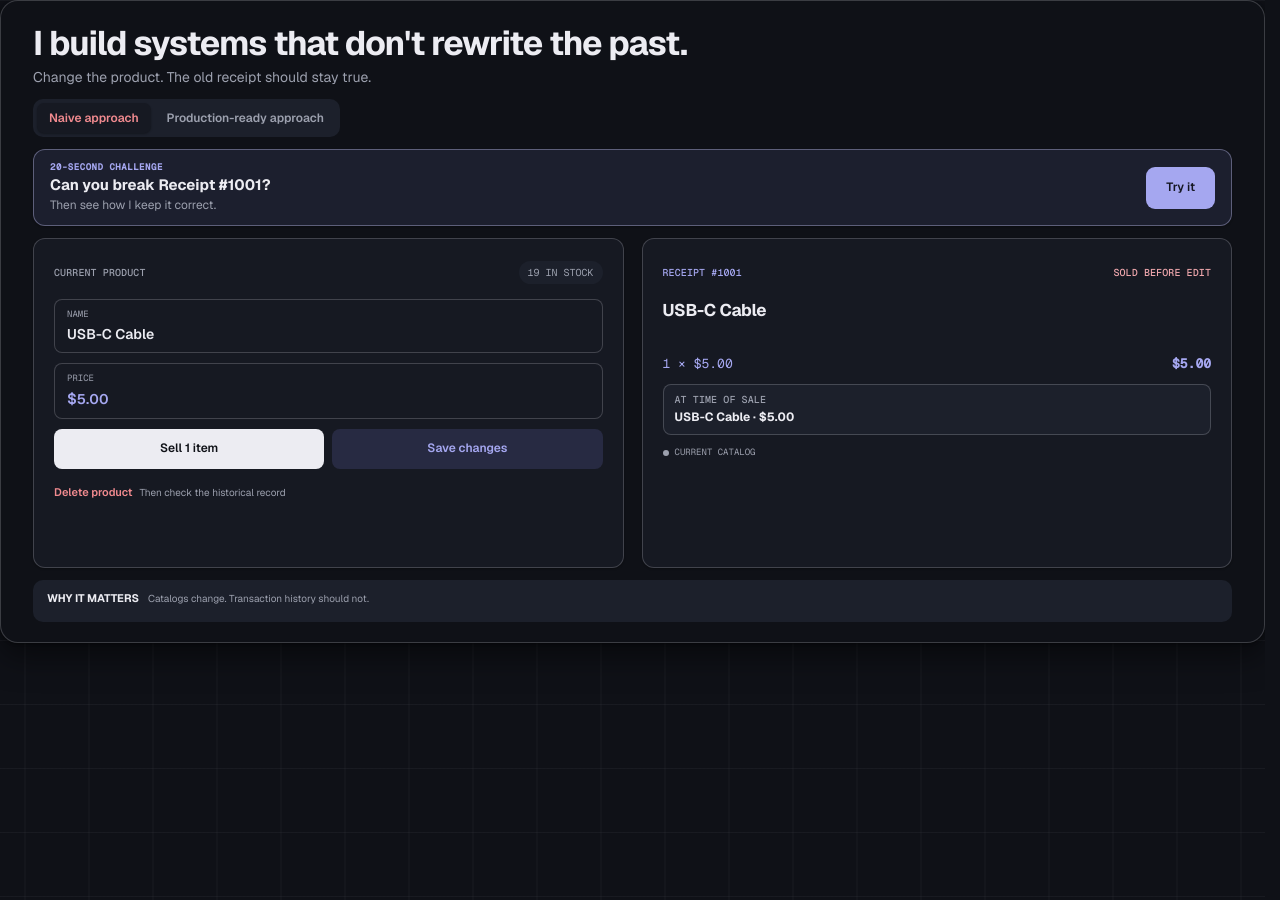
InventoryDemo › keeps the coachmark readable through all four steps in dark mode
Click the button "Try it" at (1181, 188), box [1146, 166, 1215, 208]
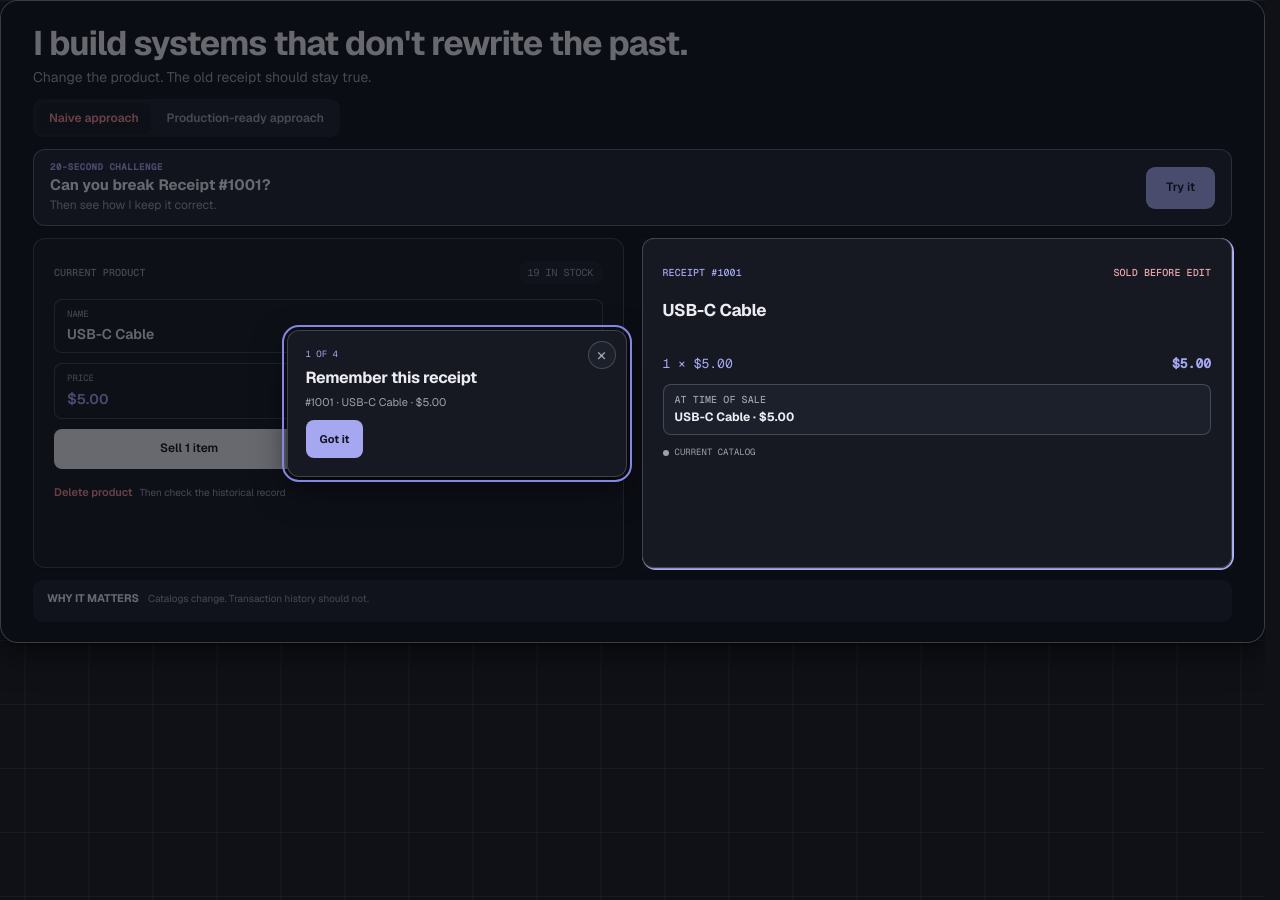
Click the button "Got it" at (334, 439), box [306, 420, 363, 458]
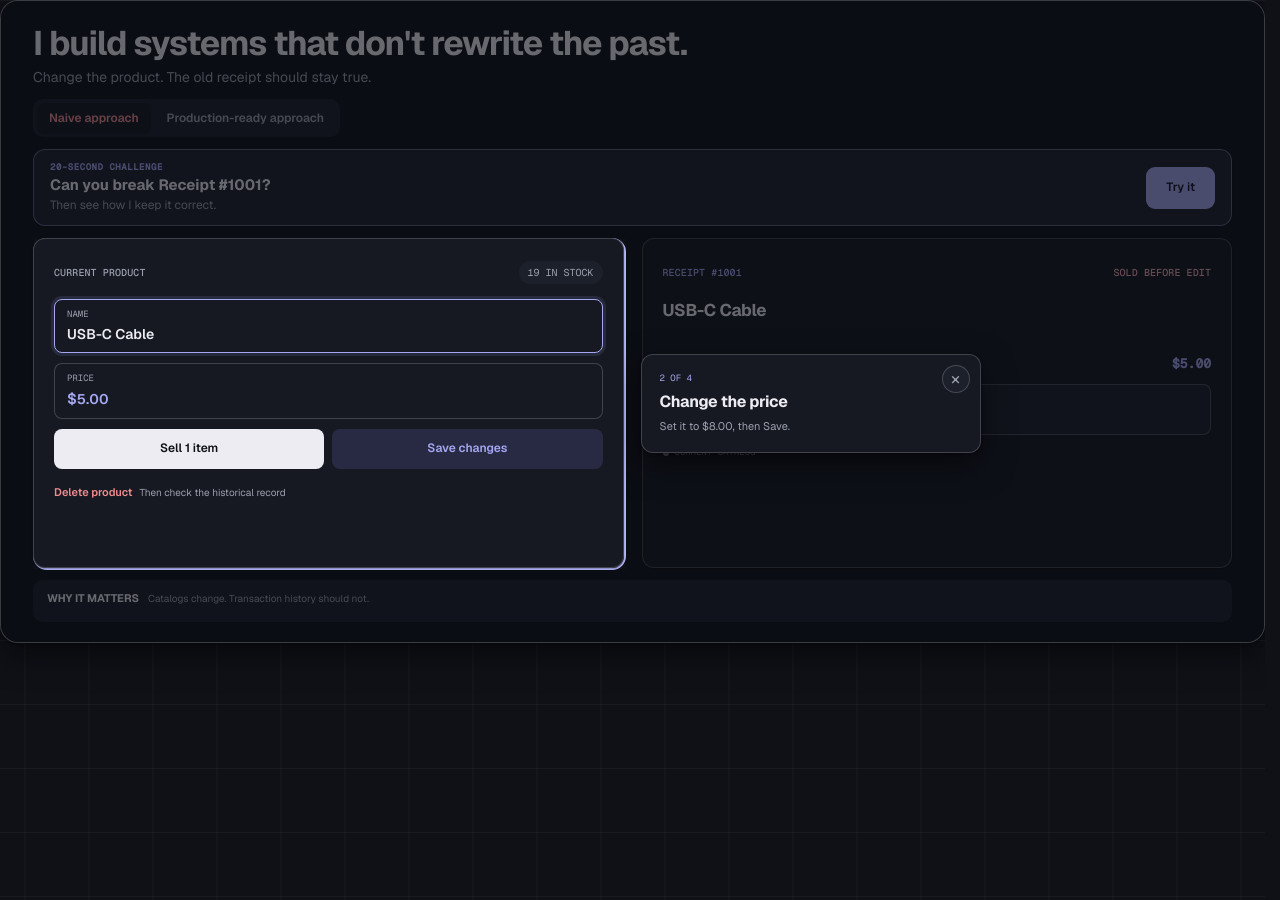
Replace the text in the field labelled "Name" with "Premium Braided USB-C Cable" at (328, 334), box [67, 325, 590, 344]
Replace the text in the field labelled "Price" with "8" at (333, 399), box [77, 390, 590, 408]
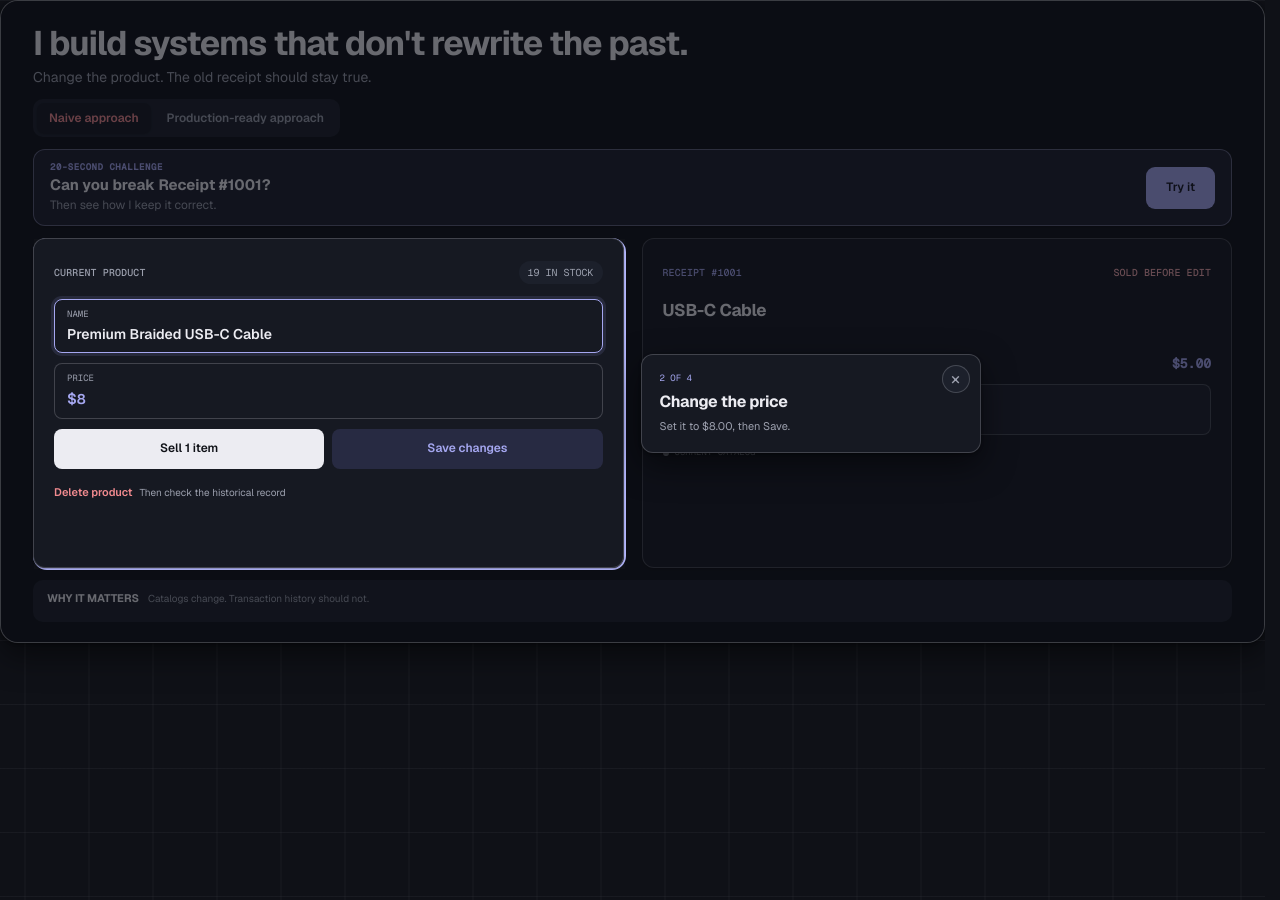
Click the button "Save changes" at (467, 449), box [332, 429, 603, 469]
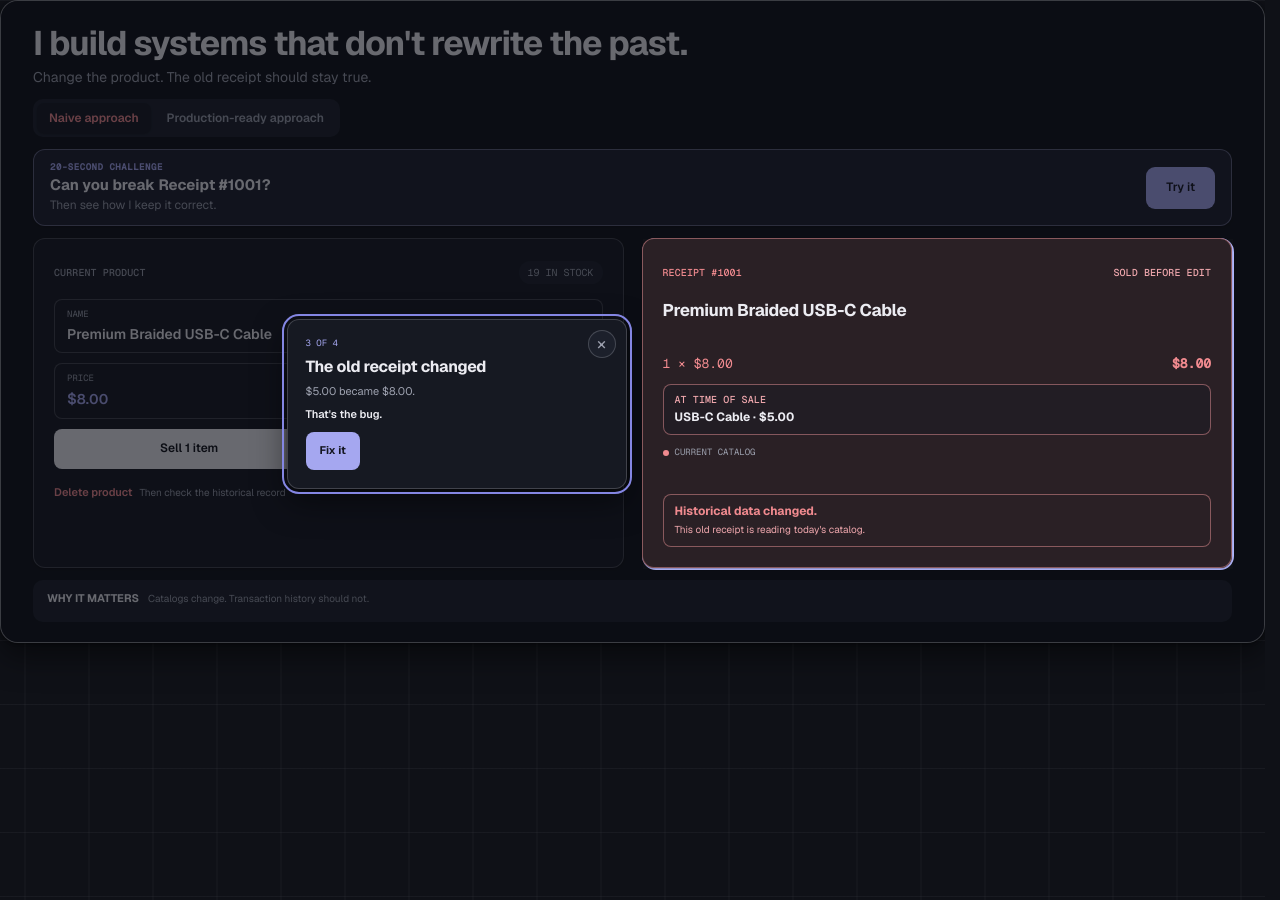
Click the button "Fix it" at (333, 451), box [306, 432, 360, 470]
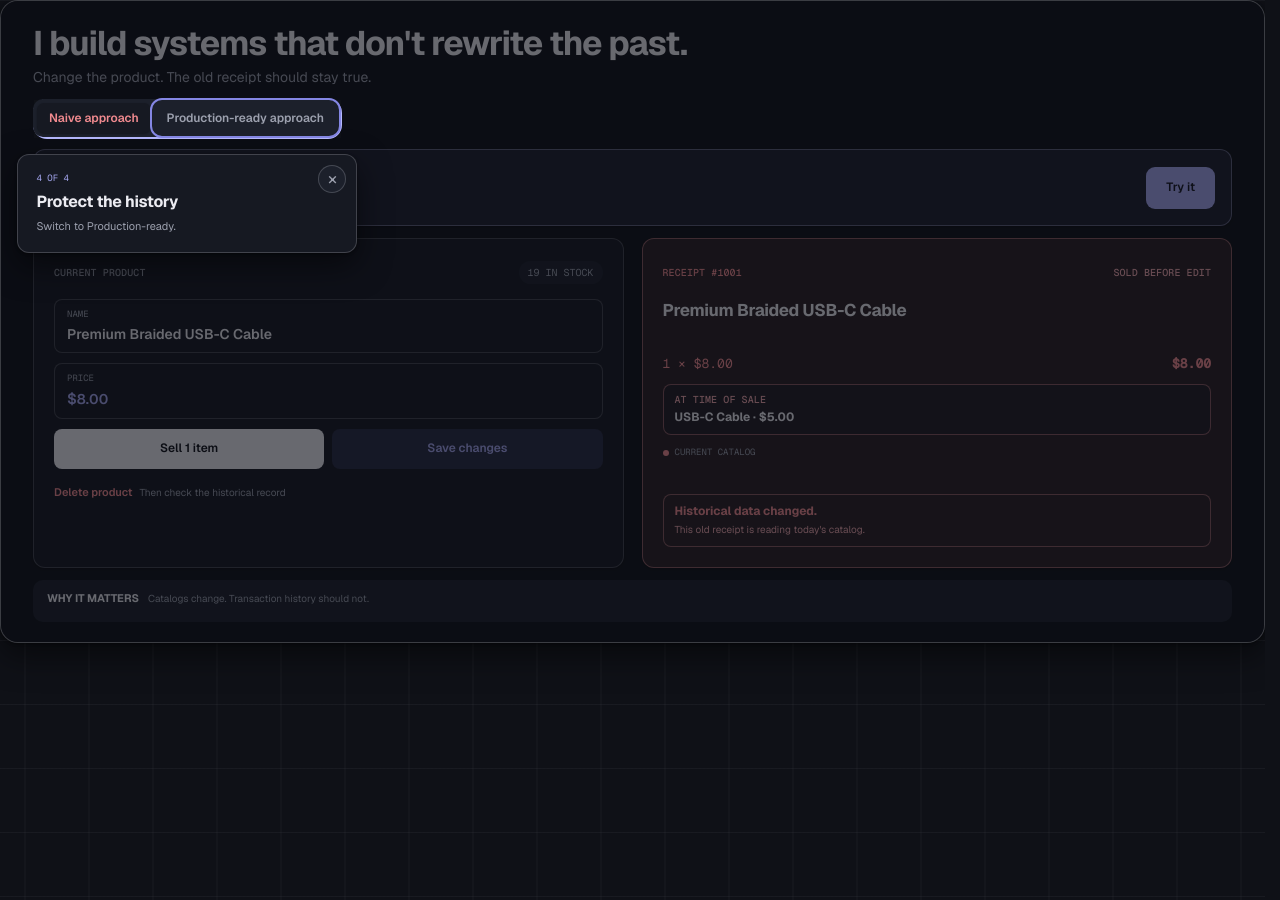
Click the tab "Production-ready approach" at (245, 118), box [155, 103, 336, 133]
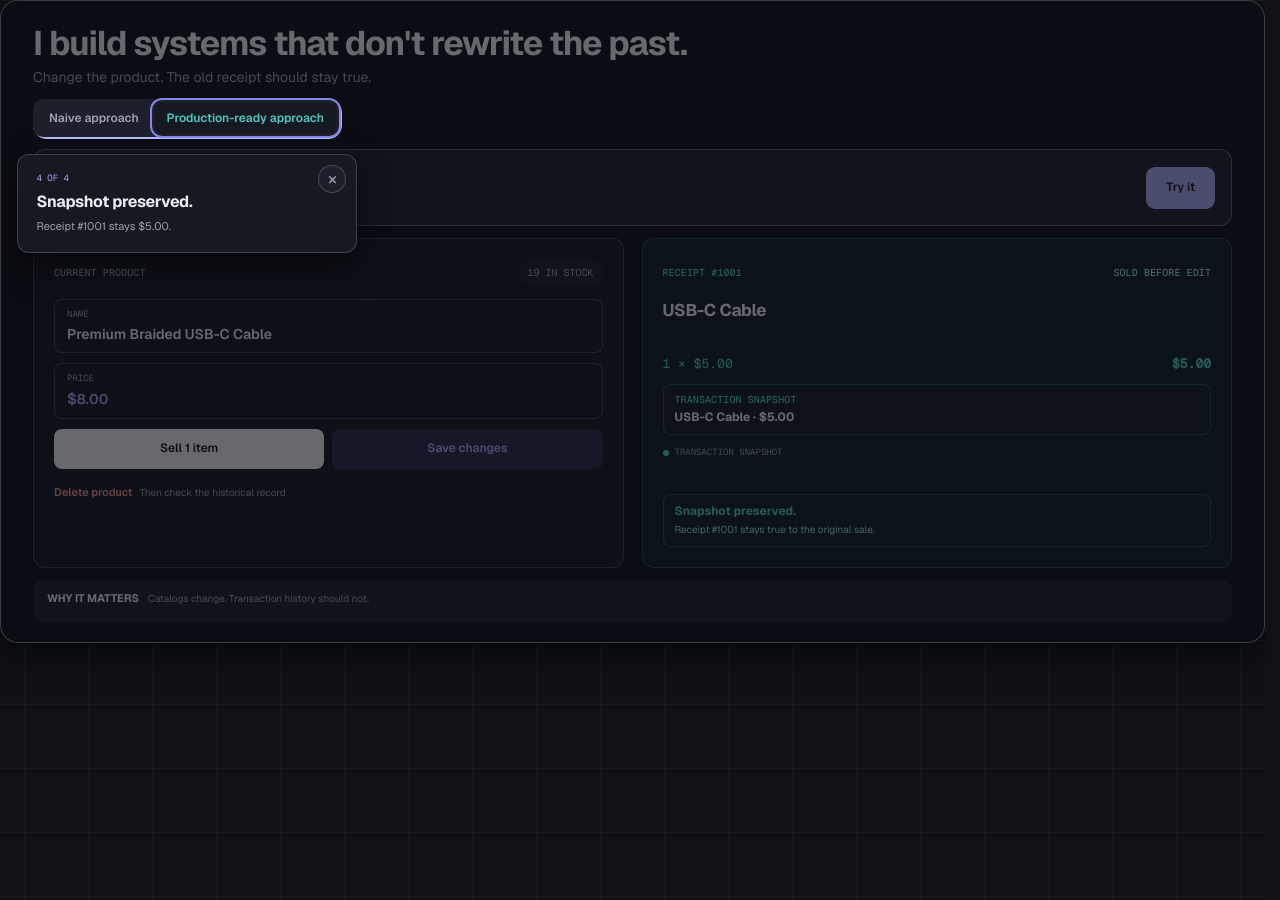
Now the dialog shows "Snapshot preserved", box [36, 191, 192, 212]
